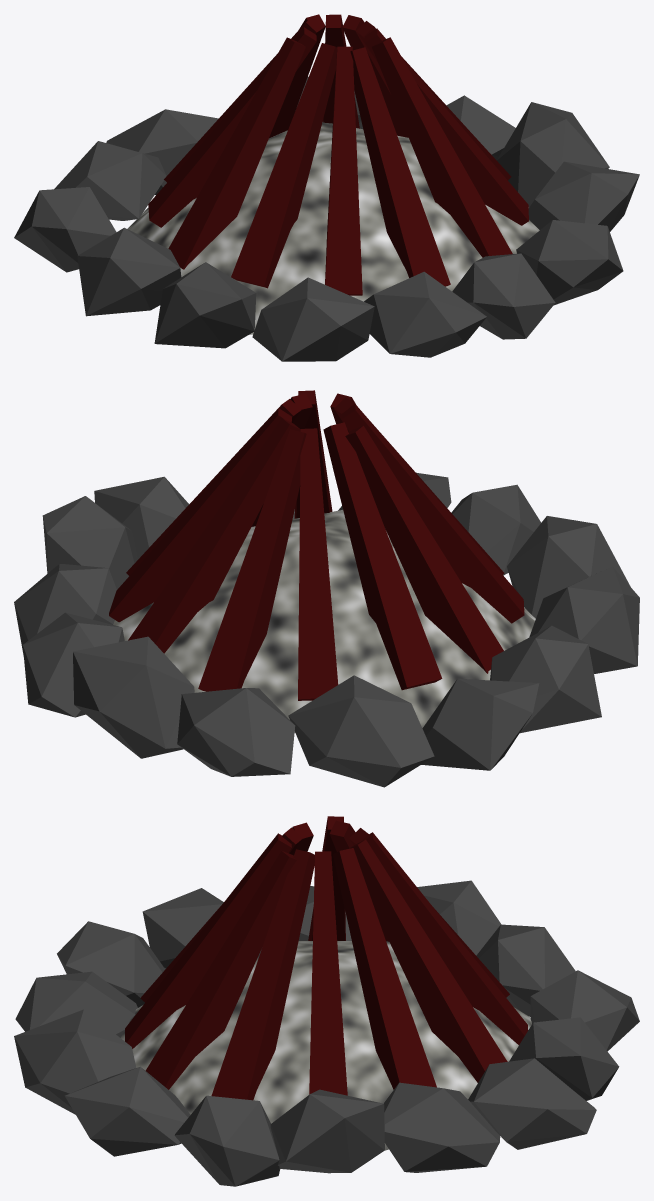
File: bonefire.fbx
3 views of the same model, one above another, from view 1: azimuth 30°, elevation 25°; view 2: azimuth 150°, elevation 25°; view 3: azimuth 270°, elevation 25° (orthographic). The views are drawn at different scales.
Visible parts, largest first — view 1: Icosphere, Cube, Icosphere.001; view 2: Icosphere, Cube, Icosphere.001; view 3: Icosphere, Cube, Icosphere.001.
Boxes of the visible parts, <box> form: Icosphere: <box>14,76,639,361</box>; Cube: <box>148,14,528,295</box>; Icosphere.001: <box>127,122,539,334</box>; Icosphere: <box>14,472,639,787</box>; Cube: <box>109,390,524,700</box>; Icosphere.001: <box>113,510,535,732</box>; Icosphere: <box>14,880,639,1186</box>; Cube: <box>125,816,528,1100</box>; Icosphere.001: <box>121,941,531,1150</box>.
Bounding box in the file's own units: 186 × 83.87 × 187.
3 materials, 1 textured.
